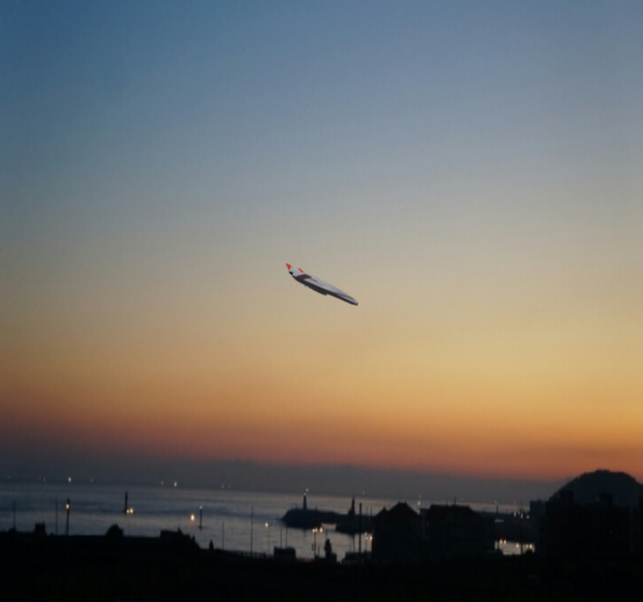military drone: (286, 262, 358, 306)
